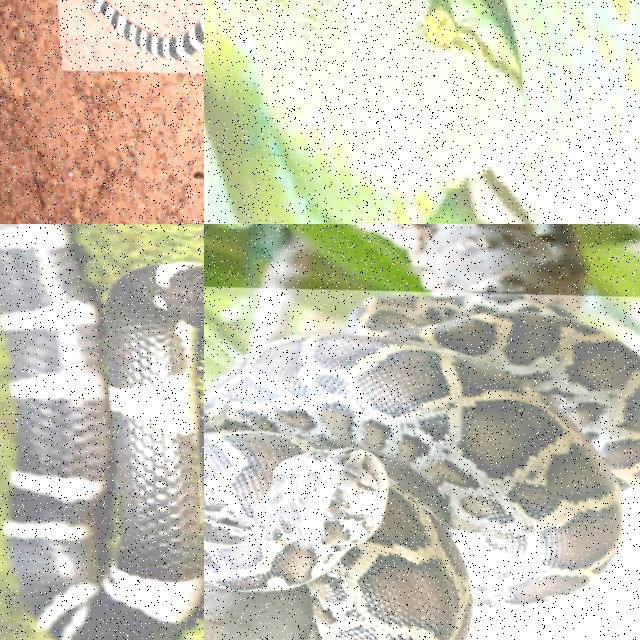Bungarus candidus: (0, 224, 203, 639), (92, 0, 203, 59)
Python bivittatus: (204, 293, 639, 639)
Trimeresurus macrops: (204, 0, 639, 223)
